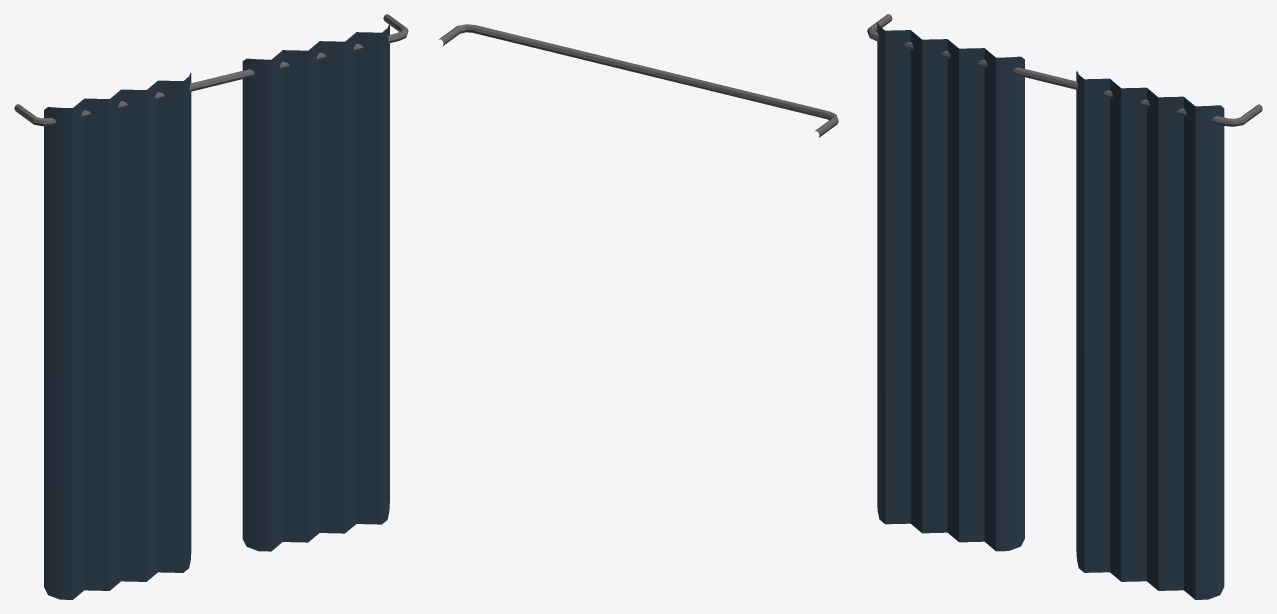
Rendered from curtains-double-quaternius.glb.
The picture shows the model from 3 angles, left to right: view 1: azimuth 30°, elevation 25°; view 2: azimuth 150°, elevation 25°; view 3: azimuth 330°, elevation 25°; orthographic projection.
Visible parts, largest first — view 1: Curtains_Double; view 2: Curtains_Double; view 3: Curtains_Double.
Part boxes in pixels (x1,y1,x2,y2): Curtains_Double: (14, 14, 408, 599); Curtains_Double: (438, 24, 838, 137); Curtains_Double: (867, 14, 1262, 599).
Size of the model in its own units: 3.47 by 4.34 by 0.4763.
